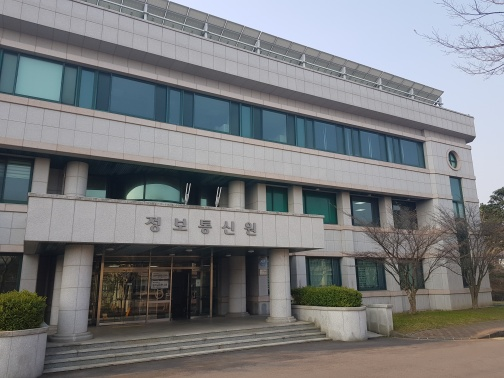Information Telecommunication Center: (1, 2, 478, 345), (32, 190, 350, 360), (135, 199, 288, 244)
